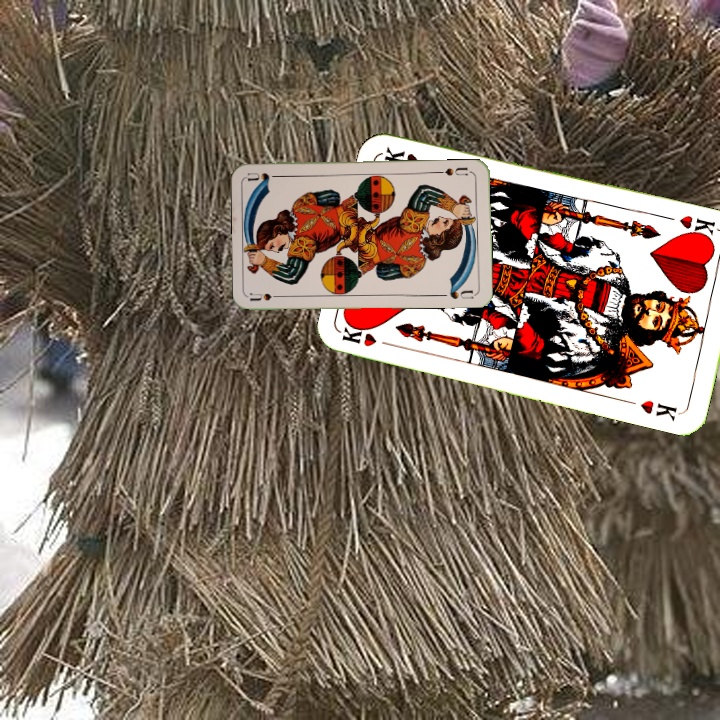HK: (339, 319, 398, 350), (675, 211, 718, 243)
SU: (247, 289, 288, 304), (434, 163, 470, 178)
